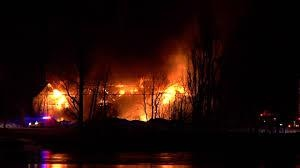fire: (43, 82, 70, 111)
